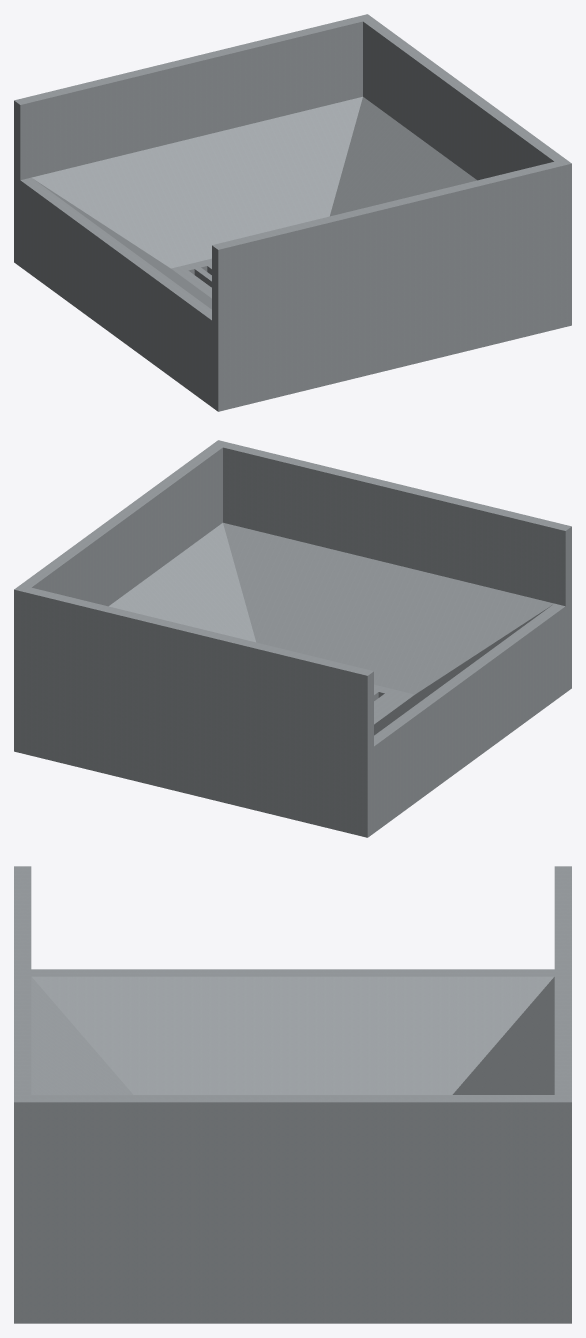
Rendered from 给料槽.glb.
The picture shows the model from 3 angles, top to bottom: view 1: azimuth 30°, elevation 25°; view 2: azimuth 150°, elevation 25°; view 3: azimuth 270°, elevation 25°; orthographic projection. The views are drawn at different scales.
Size of the model in its own units: 1.6 by 0.7 by 1.6.
Materials: 1 (1 with a texture image).
